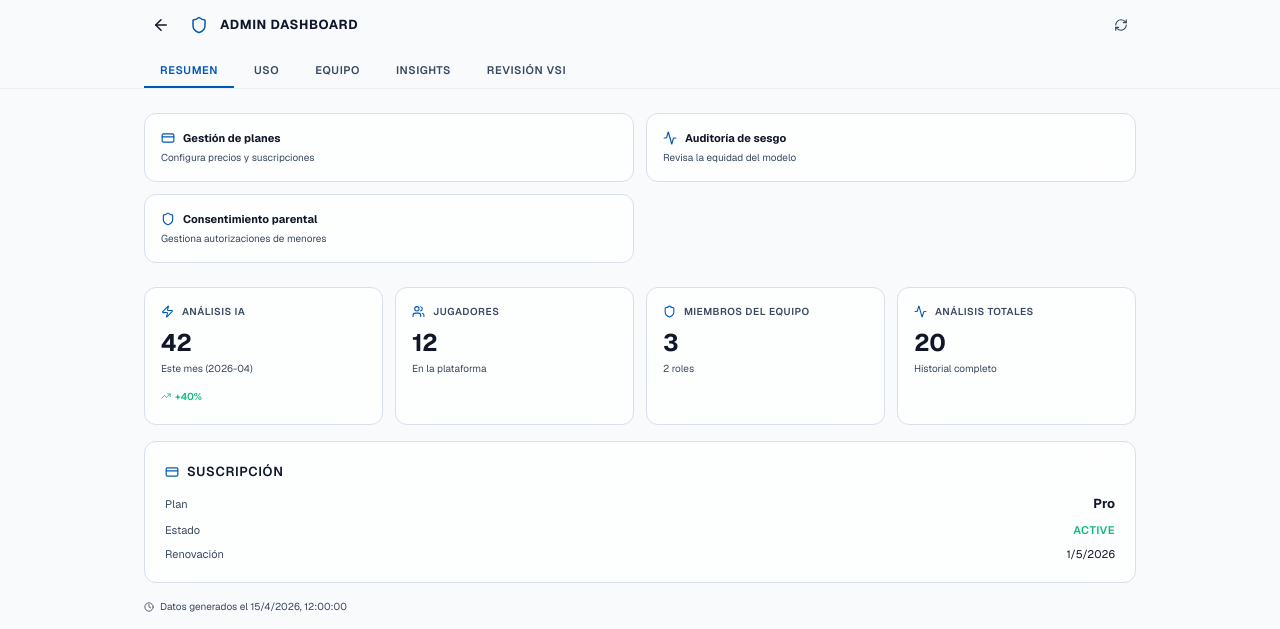
AdminDashboardPage › tabs con data cargada › tab Insights muestra insights recientes
Click the button "Insights" at {"x": 423, "y": 71}, box [380,54,467,88]
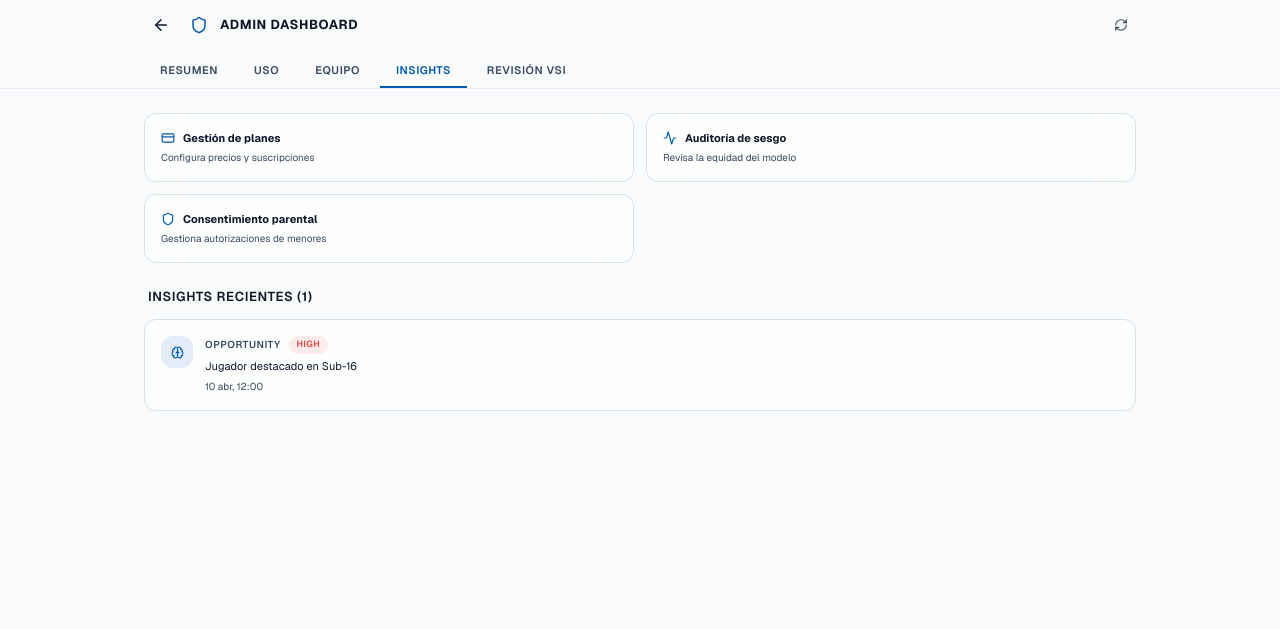
Expected: the heading "Insights recientes (1)" is shown, [148,288,313,305]
Expected: the text "Jugador destacado en Sub-16" is shown, [205,358,357,372]
Expected: the text "high" is shown, [288,336,328,354]
